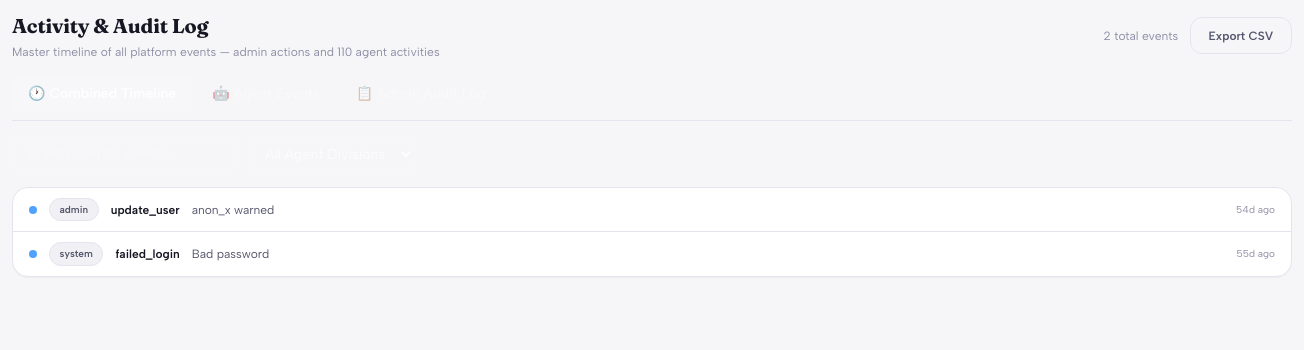
Test case: Logs — agent events tab › shows the agent empty state when no events exist
The width and height of the screenshot is (1304, 350).
expect the text "update_user" is shown: met, box x1=111 y1=202 x2=180 y2=218
Click the button "🤖 Agent Events".
click(266, 94)  # box x1=196 y1=76 x2=336 y2=112
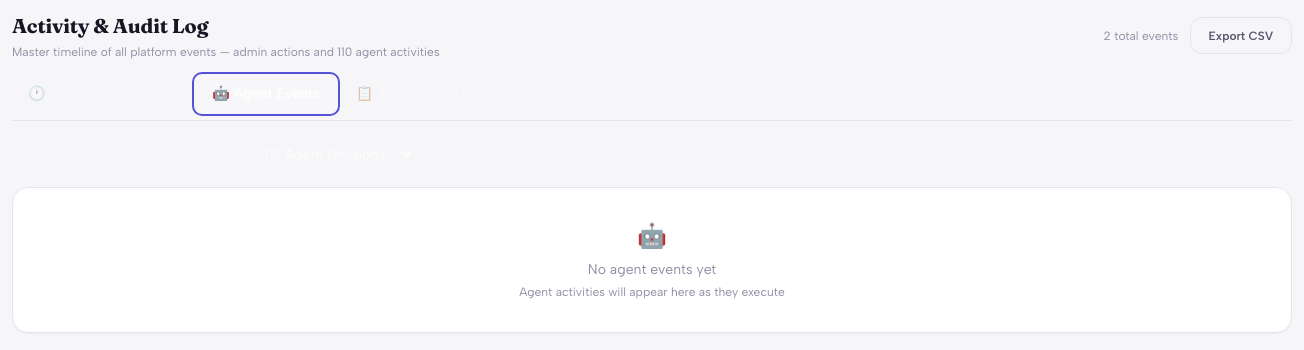
expect the text "No agent events yet" is shown: met, box x1=588 y1=261 x2=716 y2=278
